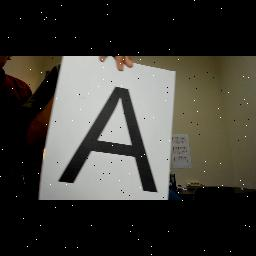a: (54, 81, 166, 197)
